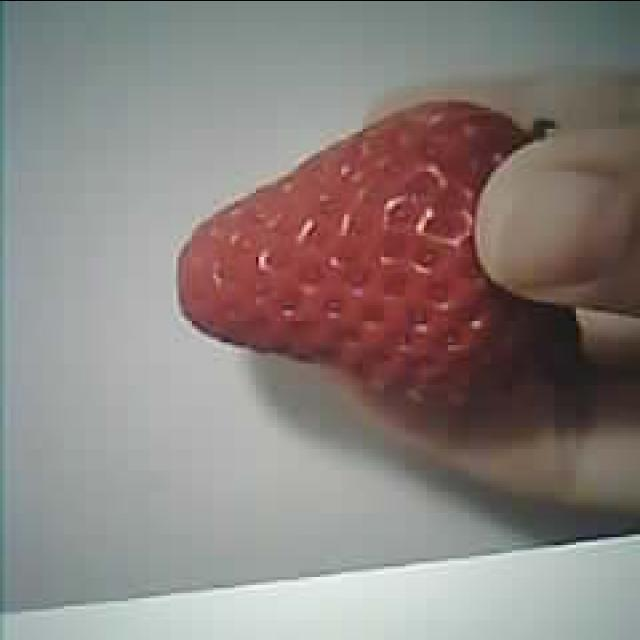ripe: (177, 99, 534, 398)
